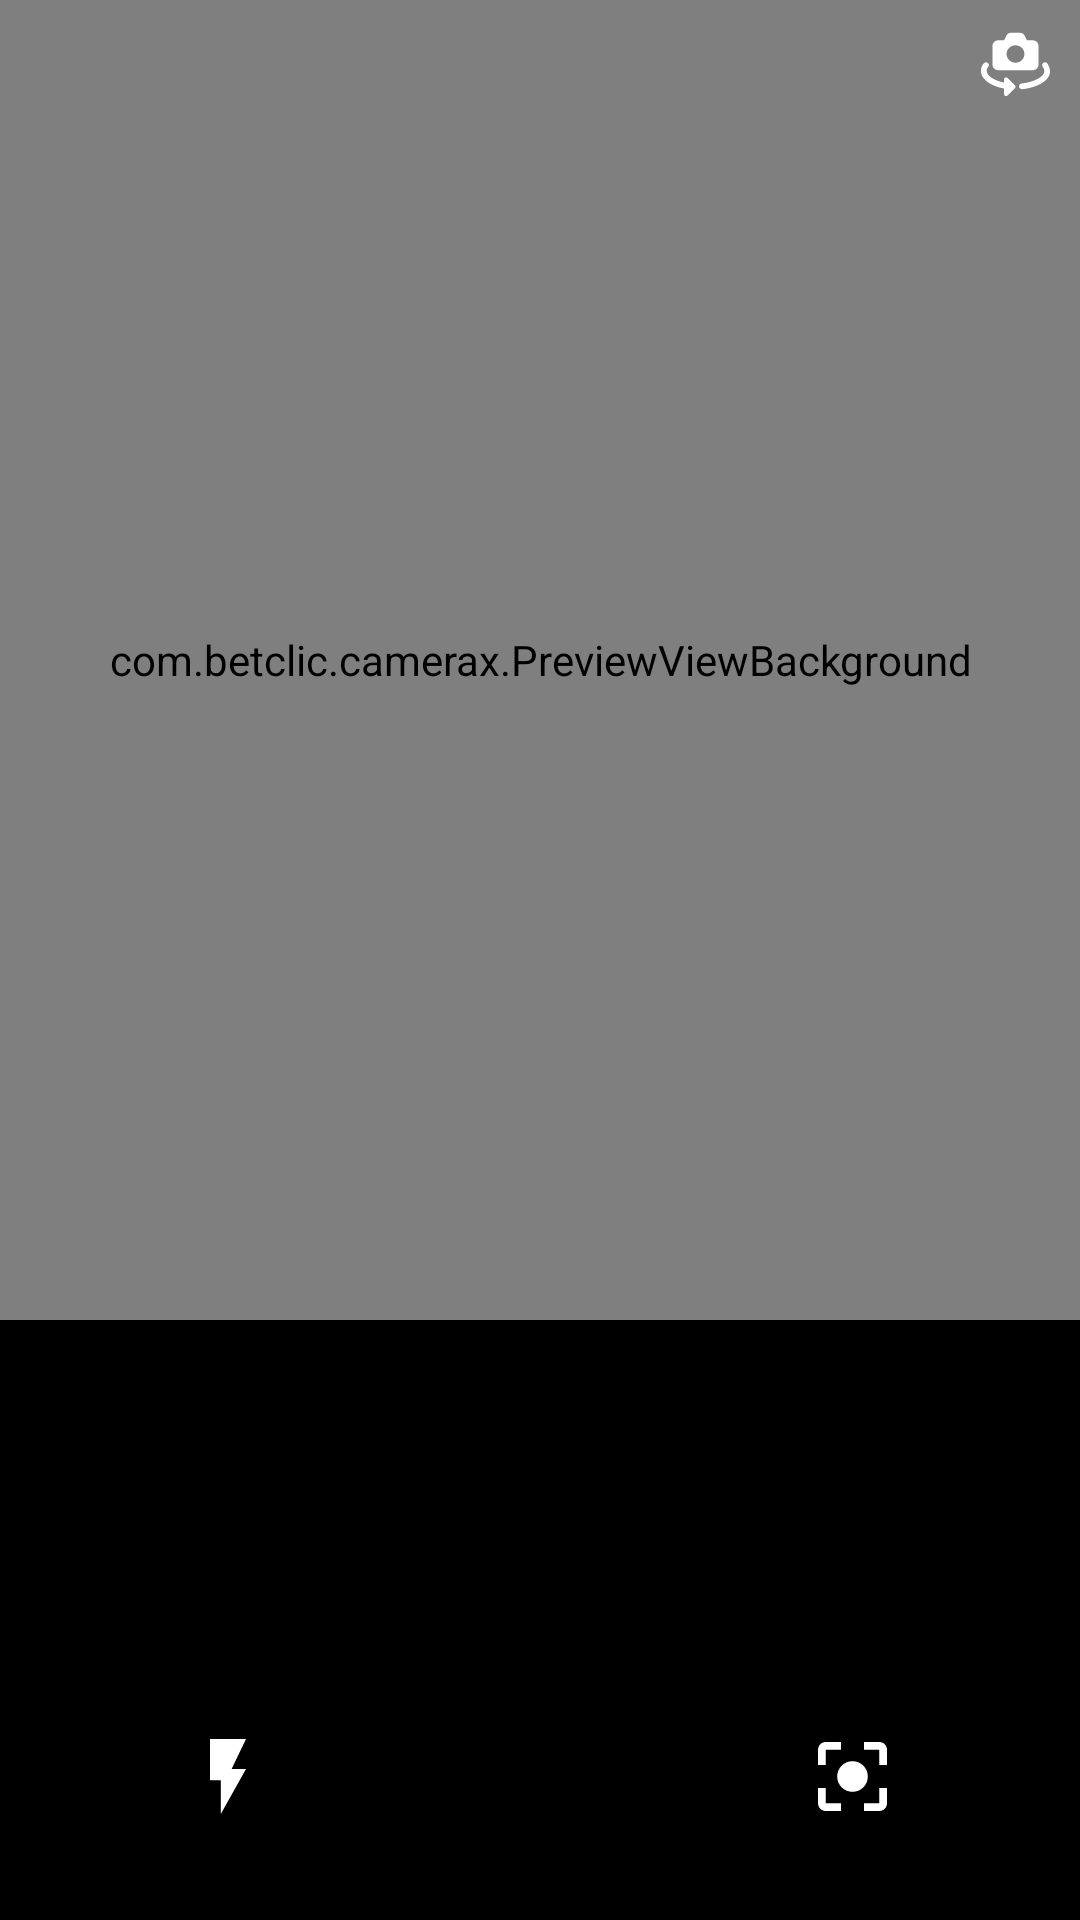

Screen size 1080×1920. Icon name, then its box in pixels as (x1, y1, x2, y2):
flash: (210, 1739, 246, 1814)
focus: (818, 1742, 887, 1811)
switch: (981, 32, 1050, 96)
